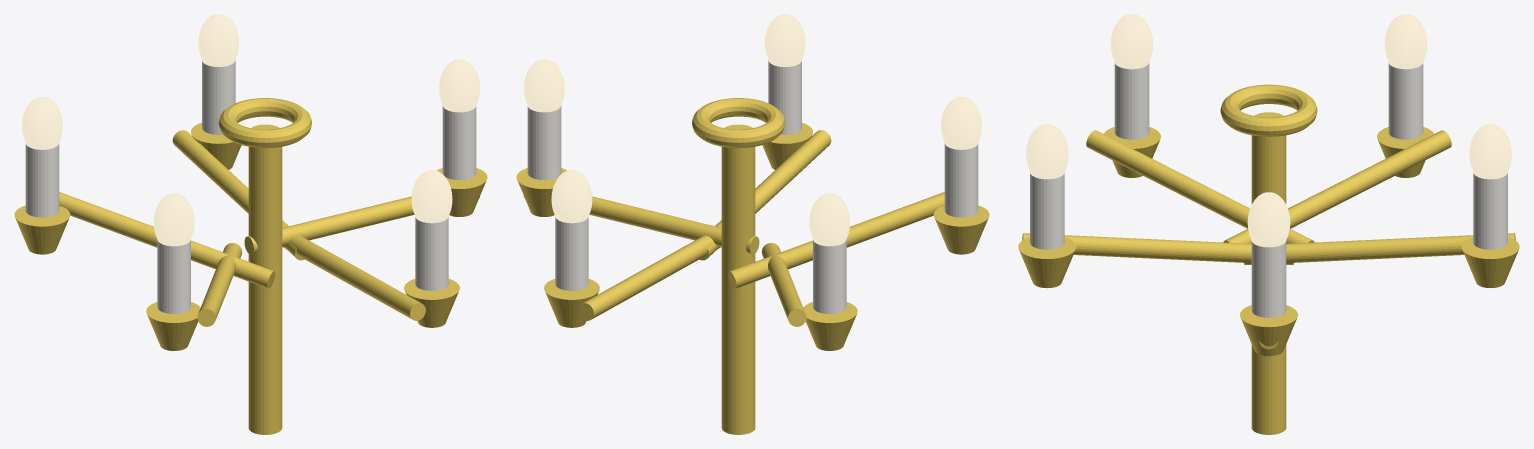
Rendered from lamp10.glb.
3 views of the same model, side by side, from view 1: azimuth 30°, elevation 25°; view 2: azimuth 150°, elevation 25°; view 3: azimuth 270°, elevation 25° (orthographic). The views are drawn at different scales.
Visible parts, largest first — view 1: L10_Center, L10_Arm2, L10_TopRing, L10_Arm4, L10_Arm0, L10_Candle2, L10_Candle0, L10_Candle4, L10_Candle3, L10_Arm1, L10_Candle1, L10_Flame2 (+10 smaller); view 2: L10_Center, L10_Arm3, L10_TopRing, L10_Arm1, L10_Arm0, L10_Candle3, L10_Candle0, L10_Candle1, L10_Candle2, L10_Arm4, L10_Candle4, L10_Flame3 (+10 smaller); view 3: L10_Center, L10_Arm2, L10_Arm3, L10_Arm1, L10_Arm4, L10_TopRing, L10_Candle2, L10_Candle3, L10_Candle0, L10_Candle1, L10_Candle4, L10_Flame0 (+9 smaller).
Part boxes in pixels (x1=…): L10_Center: x1=248, y1=124, x2=282, y2=434; L10_Arm2: x1=59, y1=192, x2=275, y2=288; L10_TopRing: x1=218, y1=98, x2=311, y2=148; L10_Arm4: x1=283, y1=235, x2=425, y2=320; L10_Arm0: x1=244, y1=196, x2=479, y2=254; L10_Candle2: x1=25, y1=143, x2=59, y2=217; L10_Candle0: x1=442, y1=105, x2=476, y2=180; L10_Candle4: x1=415, y1=216, x2=448, y2=290; L10_Candle3: x1=157, y1=239, x2=190, y2=313; L10_Arm1: x1=172, y1=130, x2=304, y2=260; L10_Candle1: x1=202, y1=60, x2=235, y2=134; L10_Flame2: x1=22, y1=96, x2=62, y2=149; L10_Center: x1=721, y1=124, x2=755, y2=434; L10_Arm3: x1=728, y1=192, x2=944, y2=288; L10_TopRing: x1=692, y1=98, x2=785, y2=148; L10_Arm1: x1=578, y1=235, x2=720, y2=320; L10_Arm0: x1=524, y1=196, x2=759, y2=254; L10_Candle3: x1=944, y1=143, x2=978, y2=217; L10_Candle0: x1=527, y1=105, x2=561, y2=180; L10_Candle1: x1=555, y1=216, x2=588, y2=290; L10_Candle2: x1=813, y1=239, x2=846, y2=313; L10_Arm4: x1=699, y1=130, x2=831, y2=260; L10_Candle4: x1=768, y1=60, x2=801, y2=134; L10_Flame3: x1=941, y1=96, x2=981, y2=149; L10_Center: x1=1251, y1=112, x2=1286, y2=434; L10_Arm2: x1=1223, y1=130, x2=1451, y2=243; L10_Arm3: x1=1086, y1=130, x2=1314, y2=243; L10_Arm1: x1=1244, y1=233, x2=1515, y2=264; L10_Arm4: x1=1022, y1=233, x2=1293, y2=264; L10_TopRing: x1=1220, y1=84, x2=1317, y2=136; L10_Candle2: x1=1388, y1=62, x2=1423, y2=139; L10_Candle3: x1=1114, y1=62, x2=1149, y2=139; L10_Candle0: x1=1251, y1=240, x2=1286, y2=317; L10_Candle1: x1=1473, y1=172, x2=1507, y2=249; L10_Candle4: x1=1030, y1=172, x2=1064, y2=249; L10_Flame0: x1=1247, y1=192, x2=1290, y2=247.
Bounding box in the file's own units: 0.4942 × 0.378 × 0.5165.
